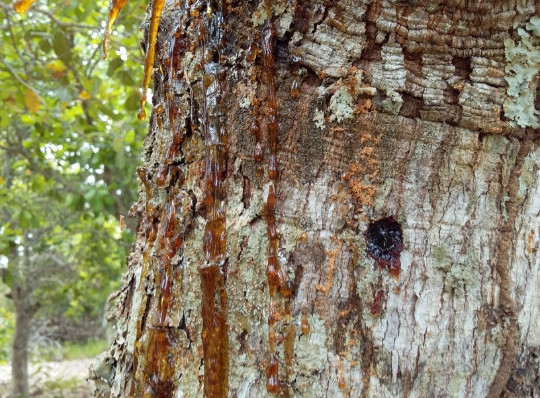Apate terebrans: (352, 207, 422, 267)
